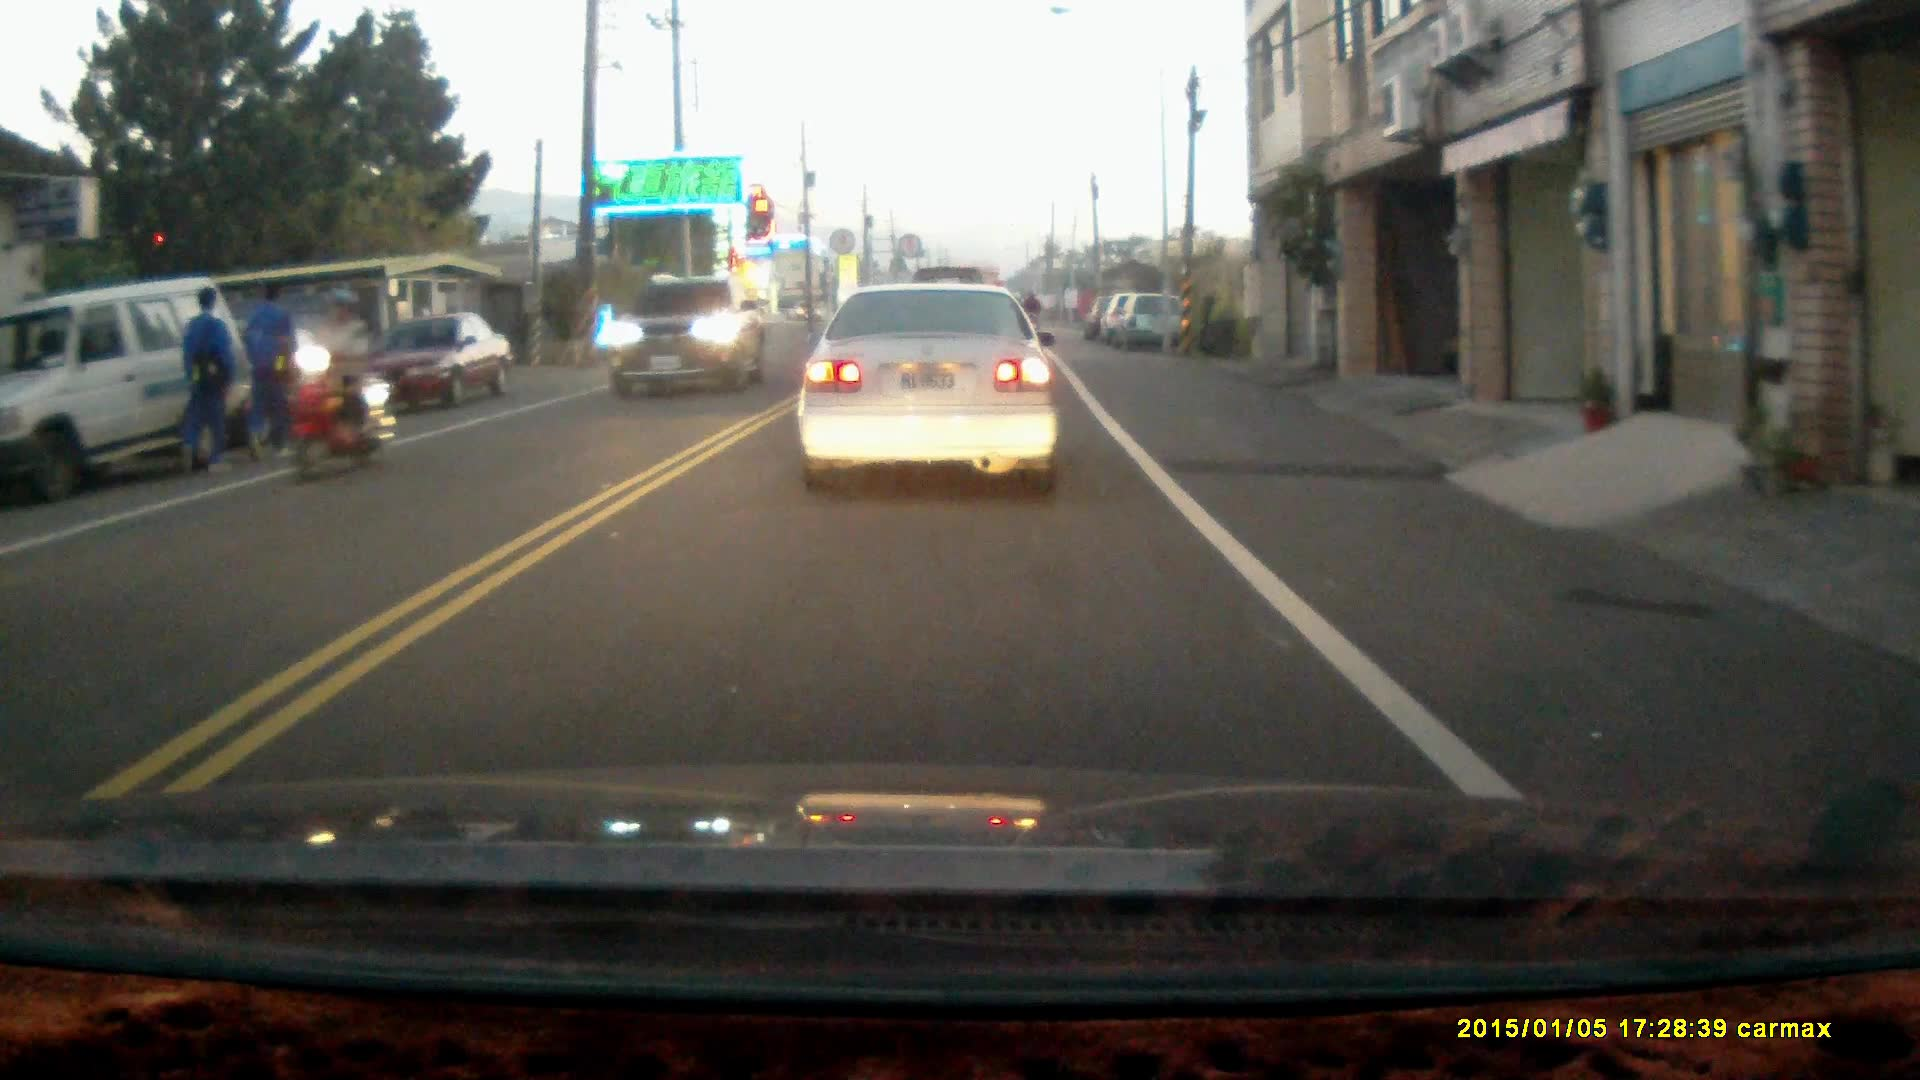pedestrian: (238, 276, 304, 467), (171, 286, 234, 476)
rider: (282, 283, 397, 481)
vehicle: (797, 283, 1064, 502), (1, 281, 235, 495), (110, 319, 341, 440), (604, 276, 765, 405), (349, 313, 516, 415), (1113, 294, 1193, 358)
